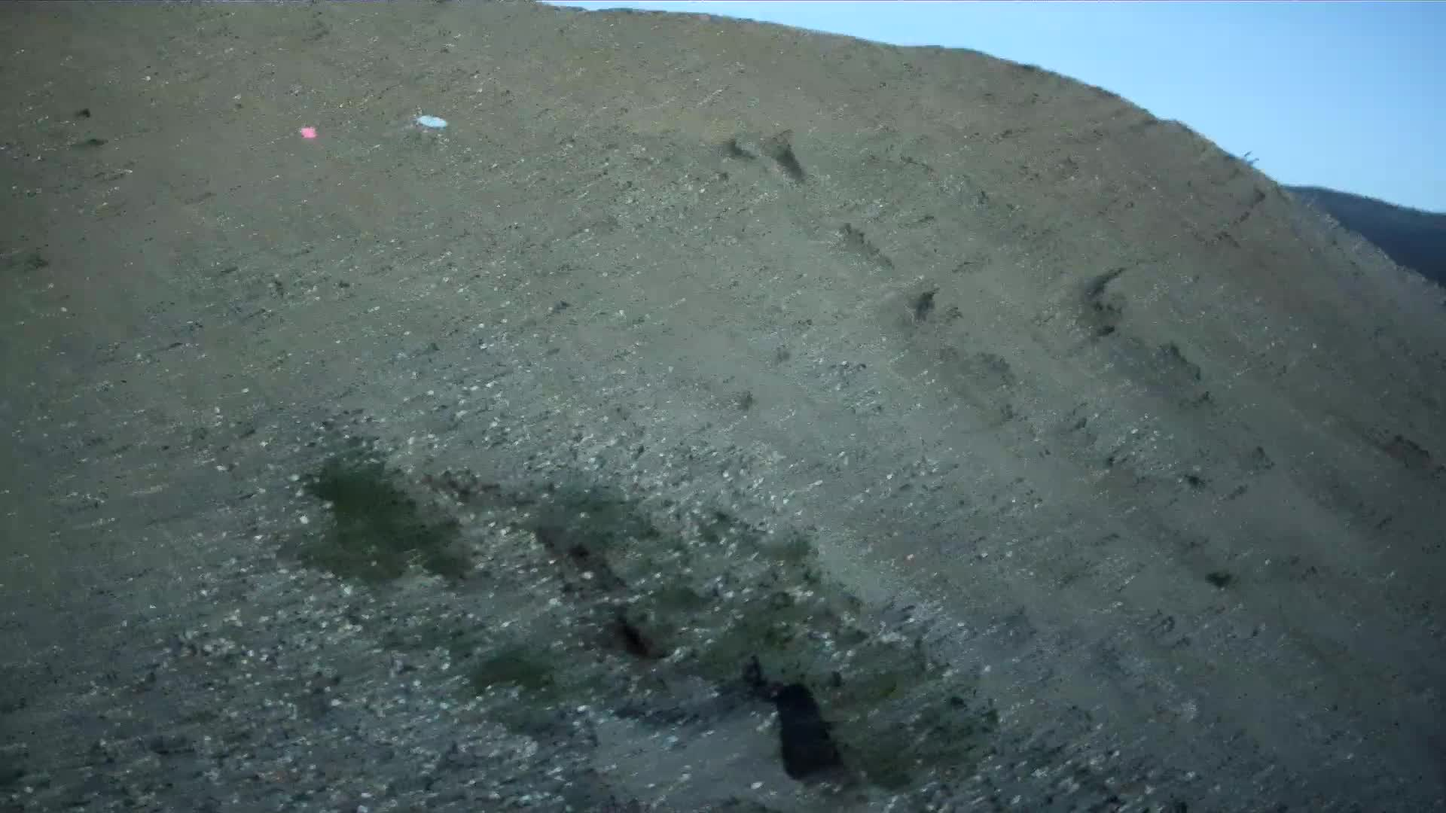Target: (418, 115, 448, 128)
